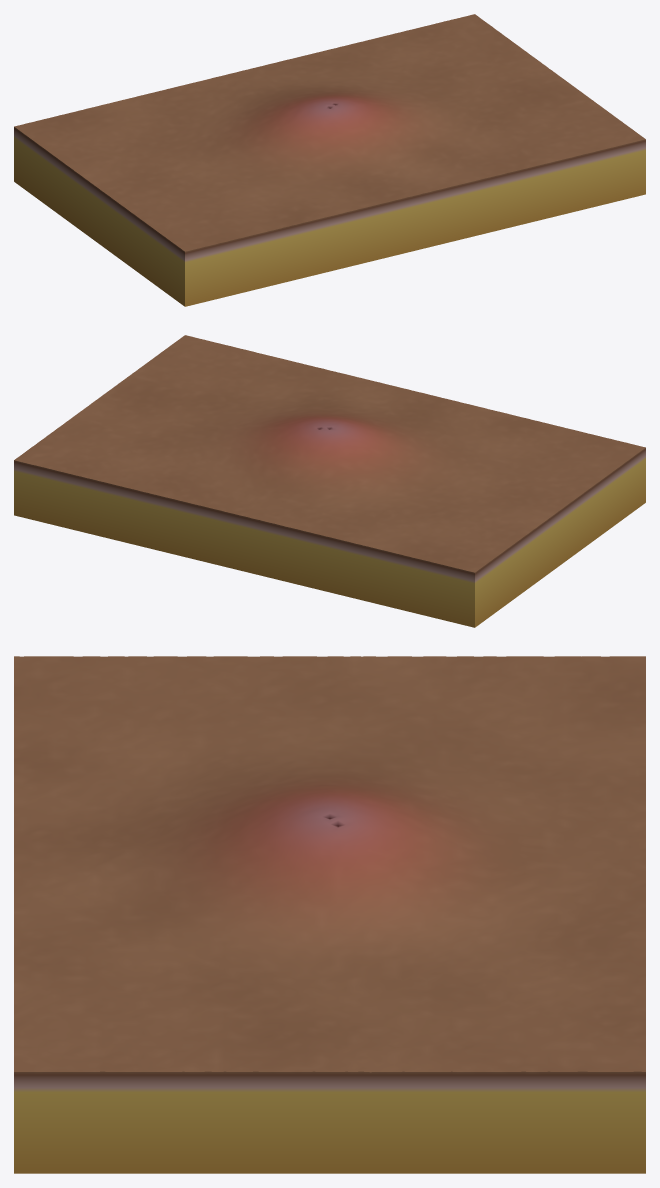
The model's file is care_pierre.glb.
3 views of the same model, one above another, from view 1: azimuth 30°, elevation 25°; view 2: azimuth 150°, elevation 25°; view 3: azimuth 270°, elevation 25° (orthographic). The views are drawn at different scales.
Parts seen in each view (by area): view 1: care_pierre; view 2: care_pierre; view 3: care_pierre.
Boxes of the visible parts, <box> form: care_pierre: <box>14,14,645,306</box>; care_pierre: <box>14,335,645,627</box>; care_pierre: <box>14,656,645,1173</box>.
Bounding box in the file's own units: 14 × 2.35 × 9.
